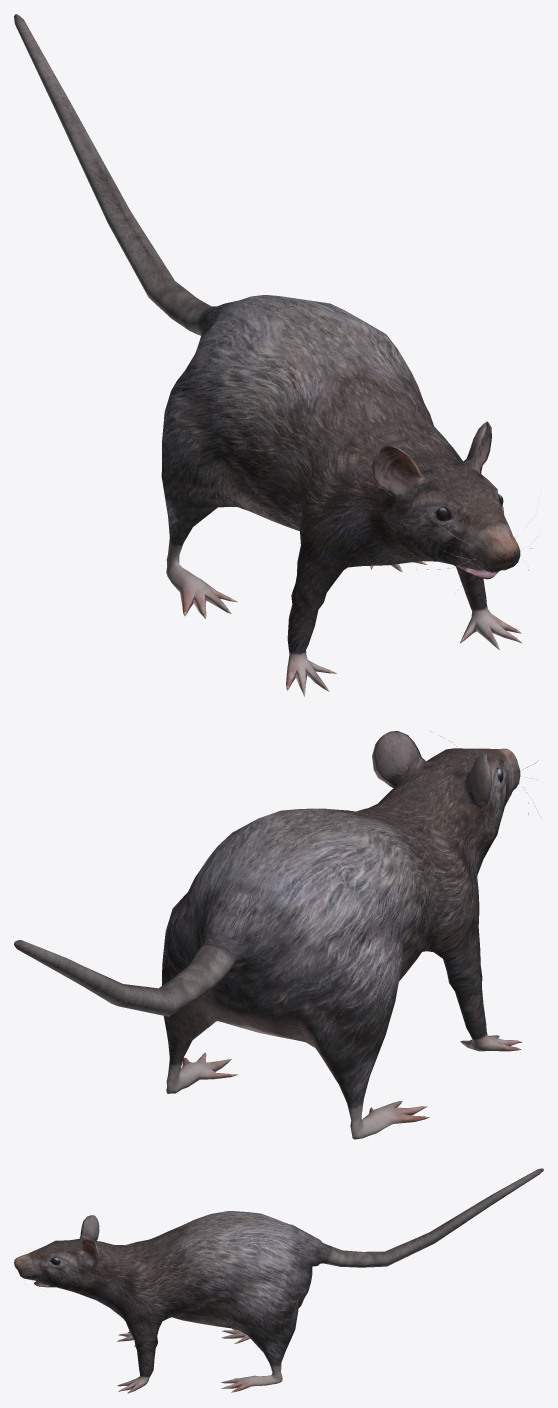
File: Rat.fbx
The picture shows the model from 3 angles, top to bottom: view 1: azimuth 30°, elevation 25°; view 2: azimuth 150°, elevation 25°; view 3: azimuth 270°, elevation 25°; orthographic projection. The views are drawn at different scales.
Visible parts, largest first — view 1: Rat; view 2: Rat; view 3: Rat.
Part boxes in pixels (left/top/right/bottom): Rat: left=14, top=14, right=538, bottom=696; Rat: left=14, top=731, right=541, bottom=1139; Rat: left=14, top=1168, right=543, bottom=1393.
Size of the model in its own units: 3.66 by 5.22 by 12.84.
Materials: 1 (1 with a texture image).
